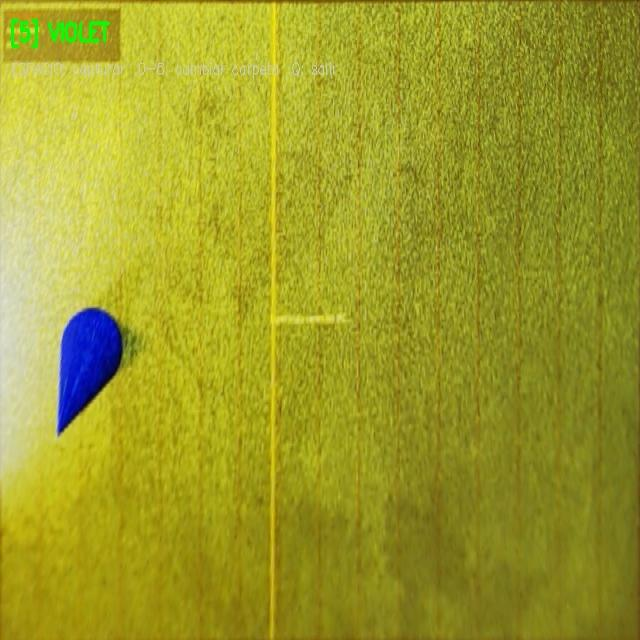violet: (58, 308, 122, 435)
